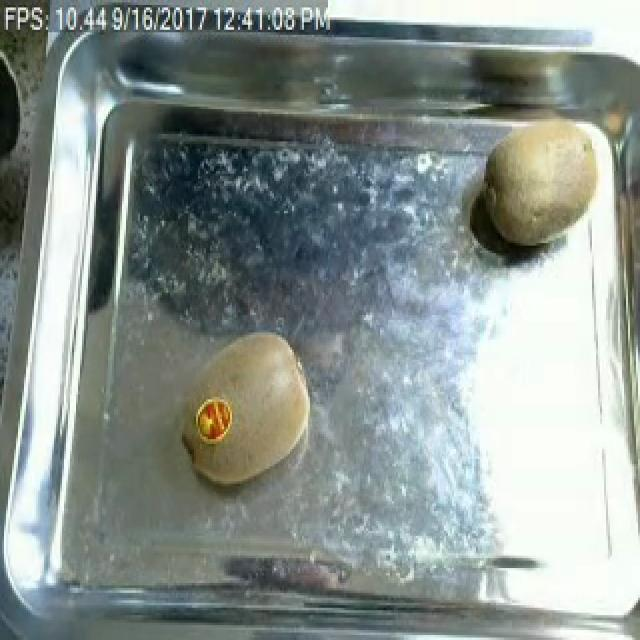Fruit: (180, 320, 320, 496), (476, 102, 626, 256)
